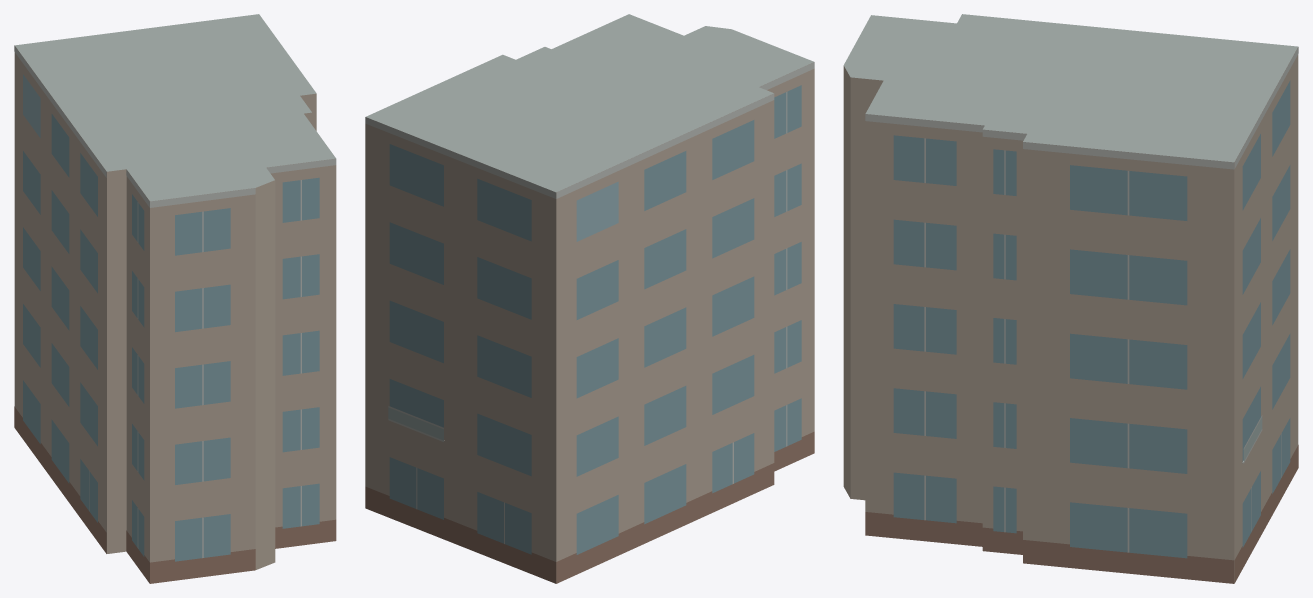
Rendered from survey-upis-32676640.glb.
3 views of the same model, side by side, from view 1: azimuth 30°, elevation 25°; view 2: azimuth 150°, elevation 25°; view 3: azimuth 270°, elevation 25° (orthographic). The views are drawn at different scales.
Parts seen in each view (by area): view 1: survey-upis-32676640.tmp; view 2: survey-upis-32676640.tmp; view 3: survey-upis-32676640.tmp.
Boxes of the visible parts, bbox=[...] form: survey-upis-32676640.tmp: bbox=[14, 14, 336, 583]; survey-upis-32676640.tmp: bbox=[365, 14, 814, 583]; survey-upis-32676640.tmp: bbox=[843, 14, 1298, 583].
Size of the model in its own units: 10.81 by 14.3 by 13.99.
